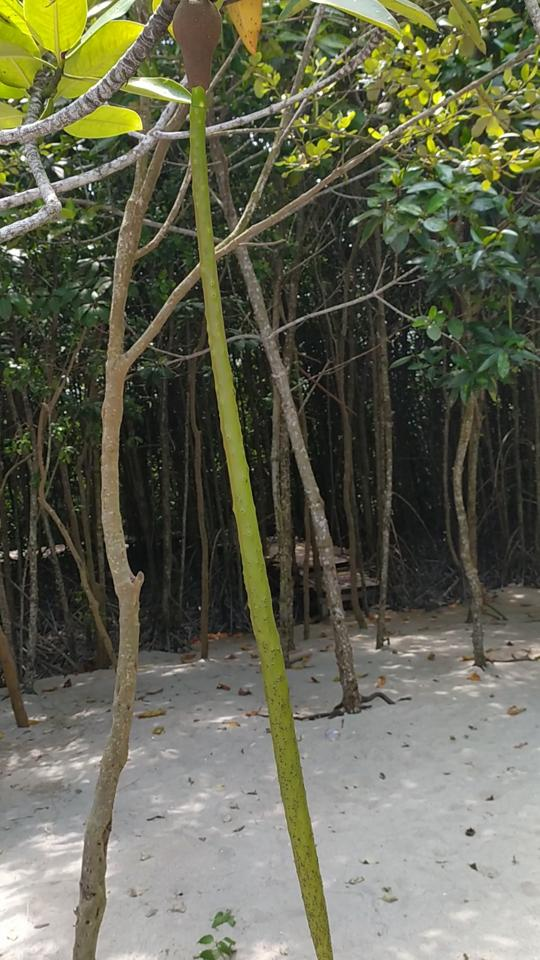mentah: (138, 1, 348, 958)
